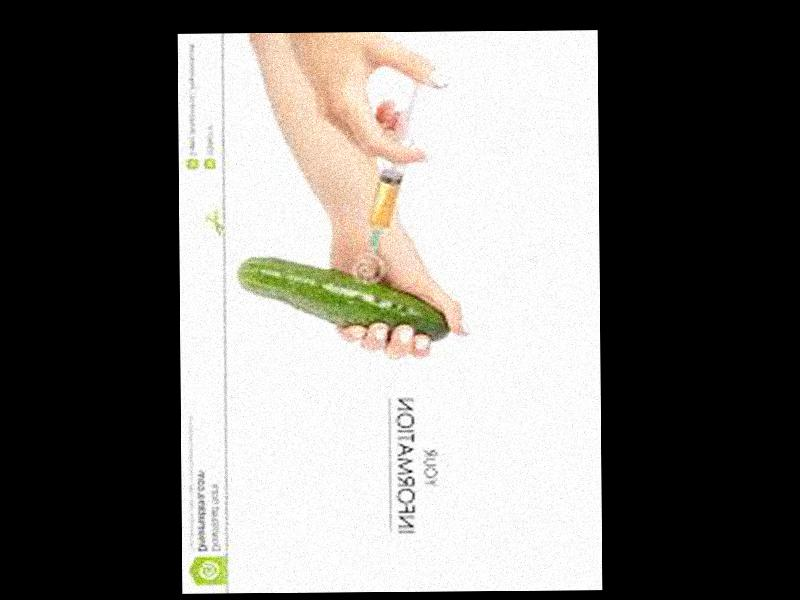Cucumber: (236, 255, 449, 342)
